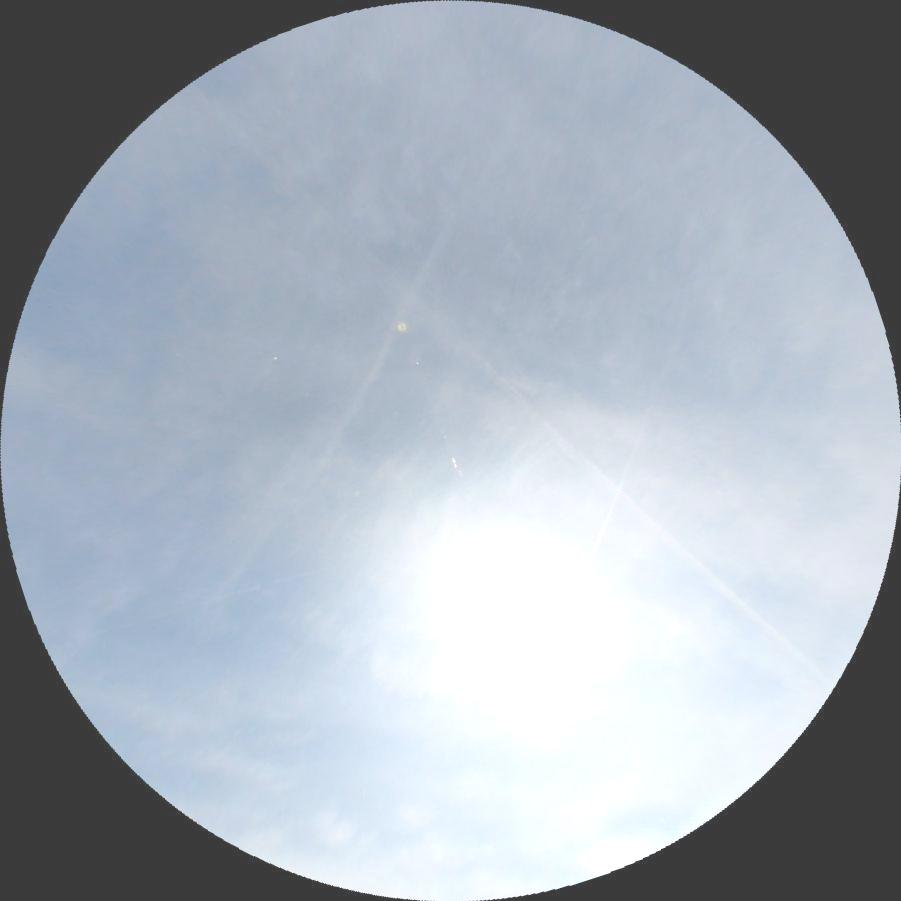contrail old: (180, 79, 840, 696)
contrail veryold: (189, 182, 496, 602)
contrail young: (581, 360, 671, 578)
sun: (457, 544, 578, 680)
